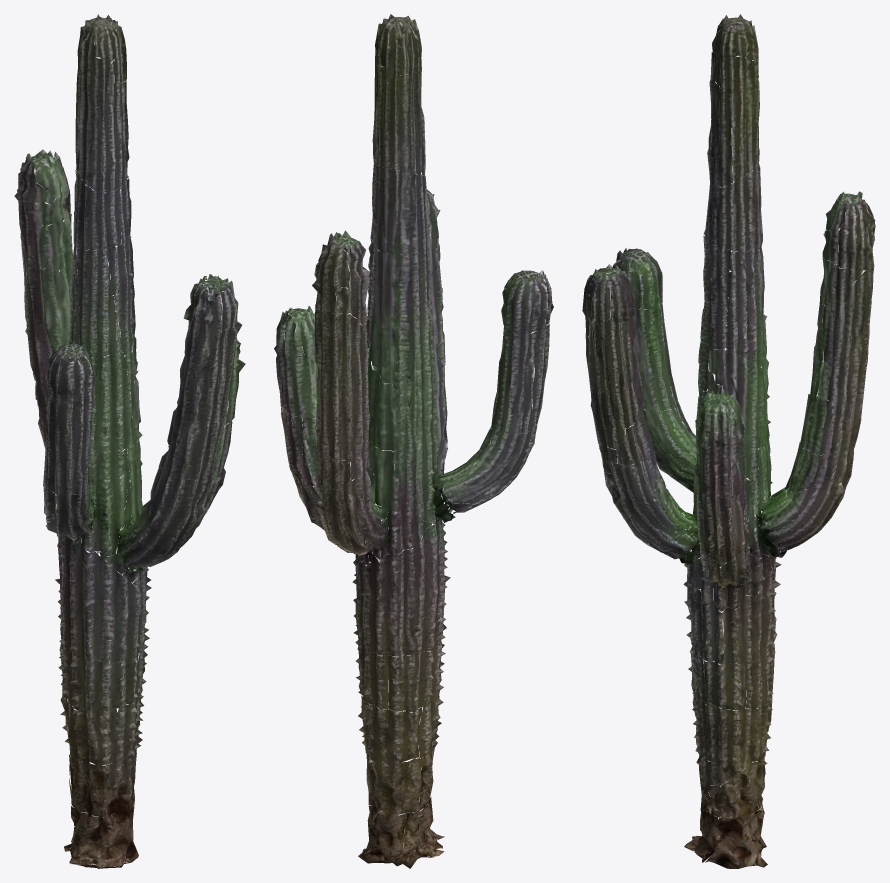
The model's file is saguaro.glb.
The picture shows the model from 3 angles, left to right: view 1: azimuth 30°, elevation 25°; view 2: azimuth 150°, elevation 25°; view 3: azimuth 270°, elevation 25°; orthographic projection.
Visible parts, largest first — view 1: tripo_node_012e1345-6f7d-4a76-b294-5811ff54b409; view 2: tripo_node_012e1345-6f7d-4a76-b294-5811ff54b409; view 3: tripo_node_012e1345-6f7d-4a76-b294-5811ff54b409.
Part boxes in pixels (<box>): tripo_node_012e1345-6f7d-4a76-b294-5811ff54b409: <box>14,14,245,868</box>; tripo_node_012e1345-6f7d-4a76-b294-5811ff54b409: <box>274,14,553,868</box>; tripo_node_012e1345-6f7d-4a76-b294-5811ff54b409: <box>582,14,875,868</box>.
Bounding box in the file's own units: 0.2885 × 1 × 0.3164.
Materials: 1 (1 with a texture image).
